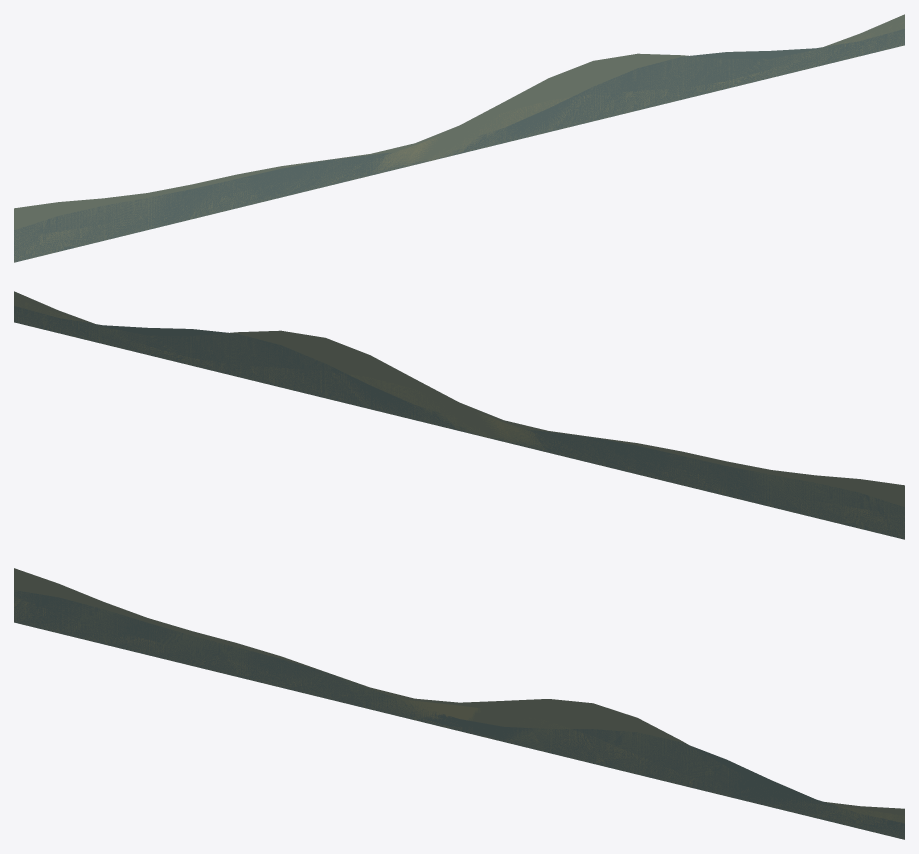
The model's file is alc_far_hills.glb.
The picture shows the model from 3 angles, top to bottom: view 1: azimuth 30°, elevation 25°; view 2: azimuth 150°, elevation 25°; view 3: azimuth 330°, elevation 25°; orthographic projection.
Visible parts, largest first — view 1: alc_far_hills; view 2: alc_far_hills; view 3: alc_far_hills.
Boxes of the visible parts, x1,y1,x2,y2 form: alc_far_hills: [14, 14, 904, 262]; alc_far_hills: [14, 291, 904, 539]; alc_far_hills: [14, 568, 904, 839].
Size of the model in its own units: 8 by 0.52 by 0.
